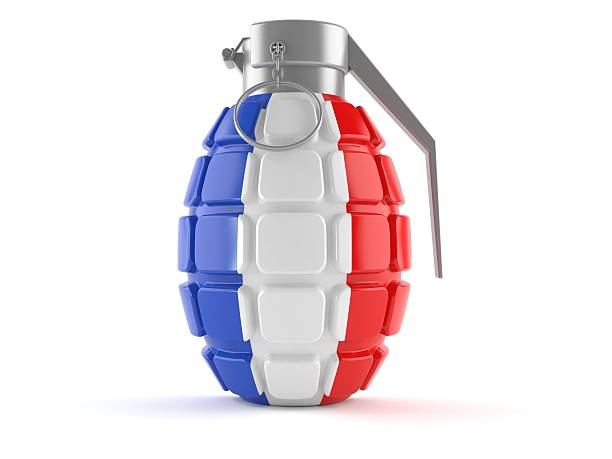e1: (176, 20, 447, 410)
